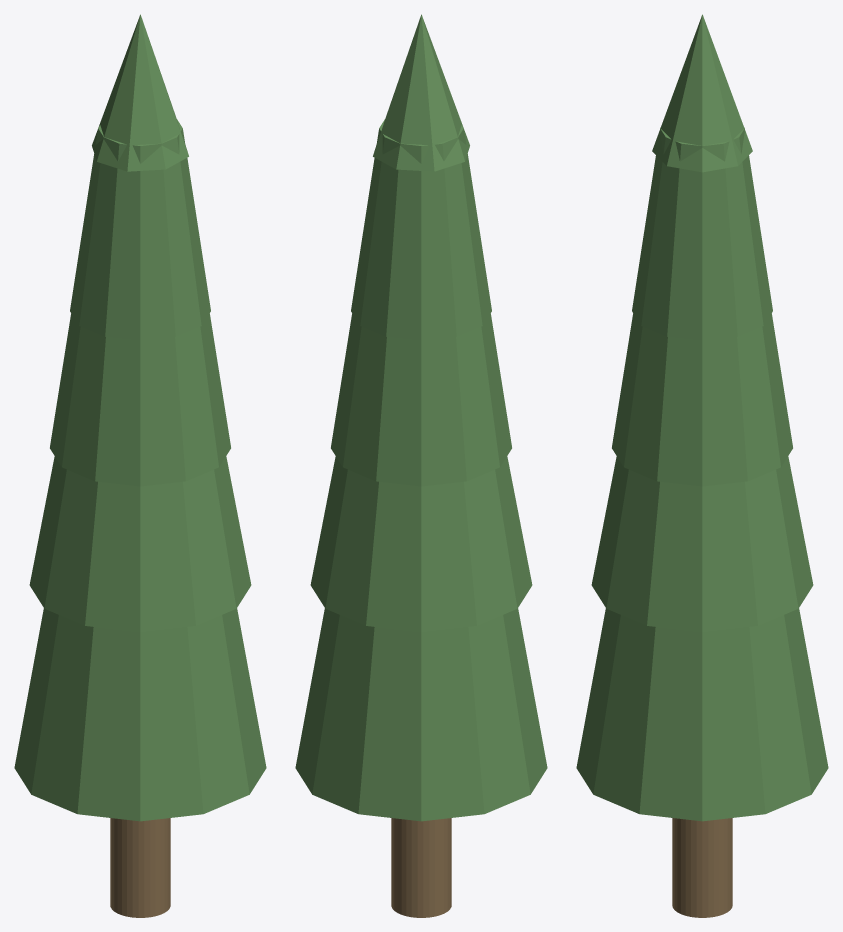
The model's file is cypress_tree.glb.
3 renders of one model, left to right at view 1: azimuth 30°, elevation 25°; view 2: azimuth 150°, elevation 25°; view 3: azimuth 270°, elevation 25°, orthographic.
Visible parts, largest first — view 1: Cone, Cone.001, Cone.002, Cone.003, Cone.004, Cylinder; view 2: Cone, Cone.001, Cone.002, Cone.003, Cone.004, Cylinder; view 3: Cone, Cone.001, Cone.002, Cone.003, Cone.004, Cylinder.
Boxes of the visible parts, left/top/right/bottom form: Cone: left=14, top=608, right=266, bottom=821; Cone.001: left=29, top=456, right=251, bottom=631; Cone.002: left=50, top=313, right=230, bottom=486; Cone.003: left=70, top=119, right=210, bottom=340; Cone.004: left=92, top=14, right=188, bottom=171; Cylinder: left=110, top=818, right=170, bottom=917; Cone: left=295, top=608, right=547, bottom=821; Cone.001: left=310, top=456, right=532, bottom=631; Cone.002: left=331, top=313, right=511, bottom=486; Cone.003: left=351, top=119, right=491, bottom=340; Cone.004: left=373, top=14, right=469, bottom=171; Cylinder: left=391, top=818, right=451, bottom=917; Cone: left=576, top=608, right=828, bottom=821; Cone.001: left=591, top=456, right=813, bottom=631; Cone.002: left=612, top=313, right=792, bottom=486; Cone.003: left=632, top=127, right=772, bottom=340; Cone.004: left=652, top=14, right=752, bottom=172; Cylinder: left=672, top=818, right=732, bottom=917.
Size of the model in its own units: 0.5 by 1.95 by 0.5.
